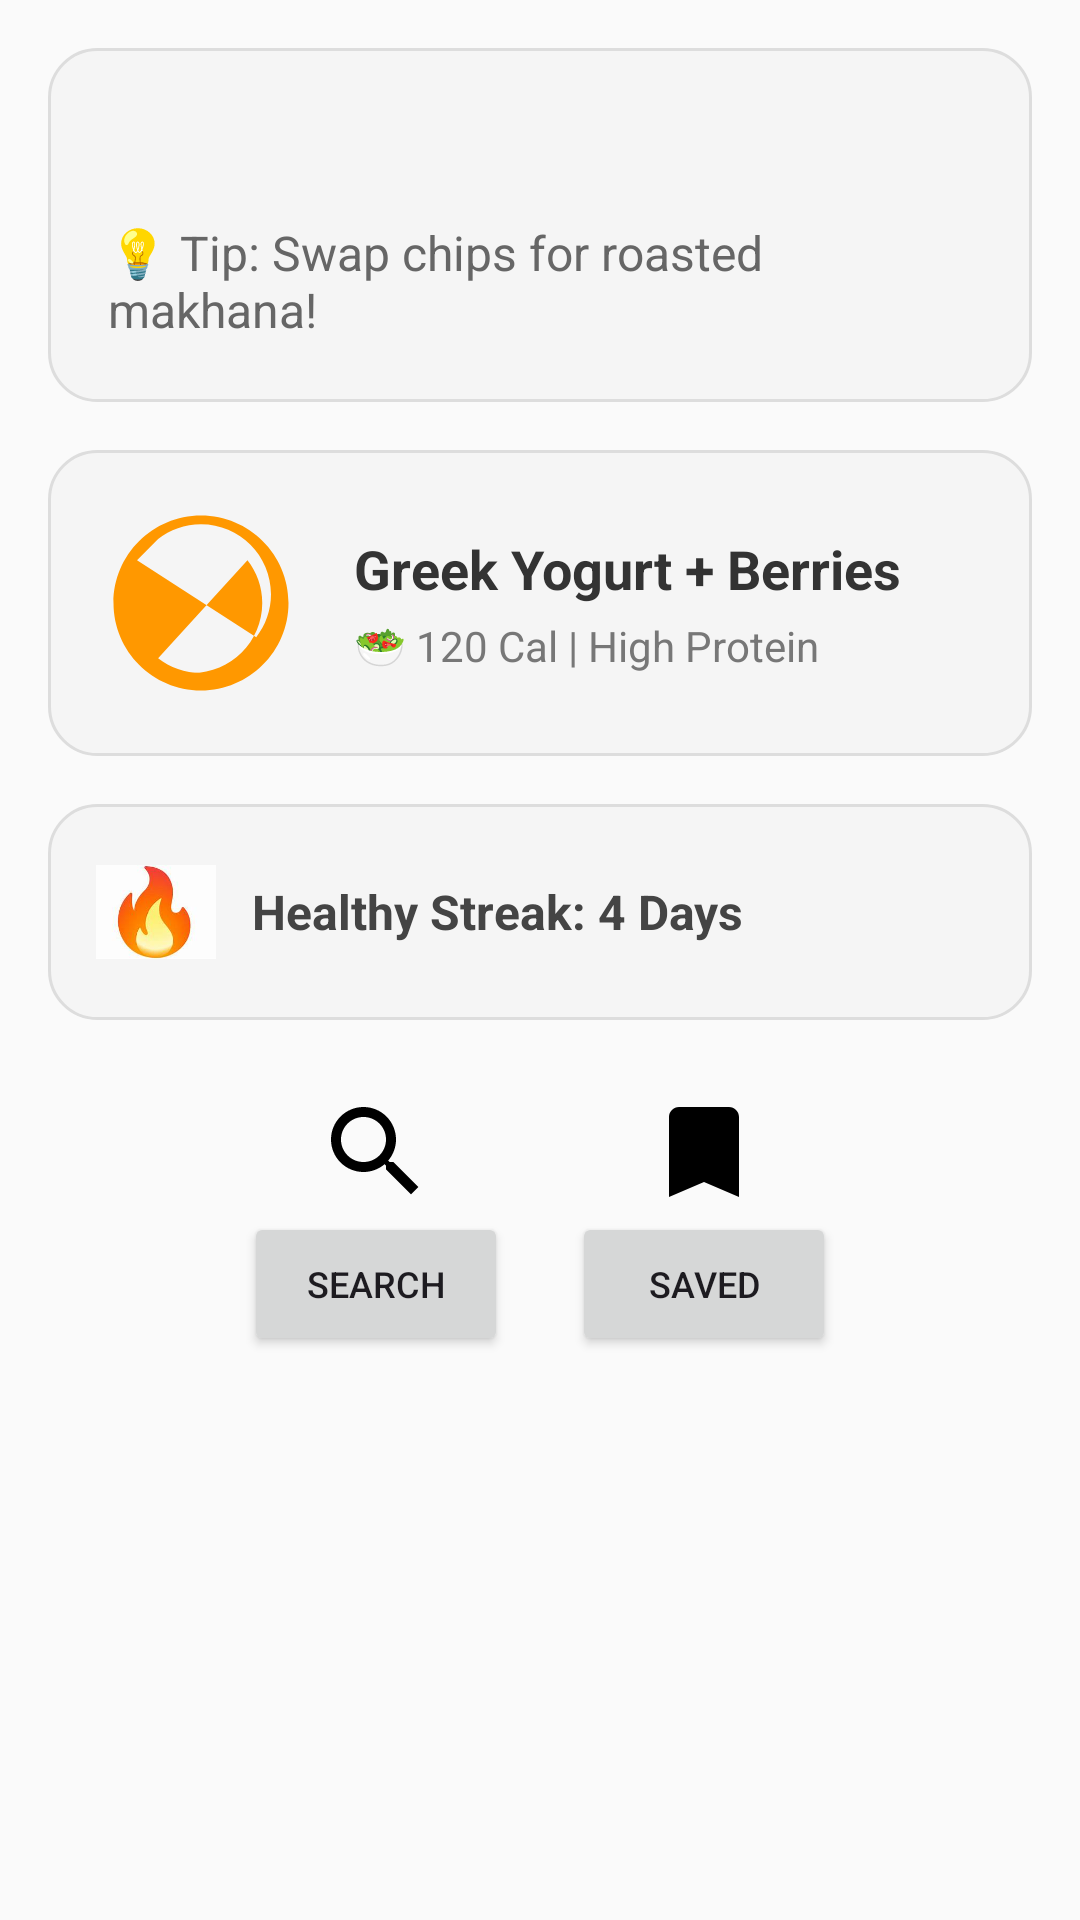

Icons on this 1080 × 1920 Android screen, each with its box as (x1, y1, x2, y2):
fire: (118, 866, 191, 959)
